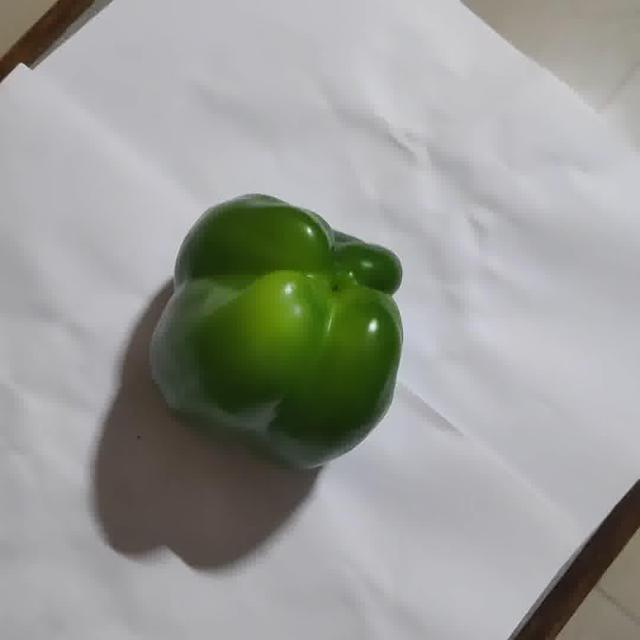Bell Pepper: (152, 194, 402, 469)
